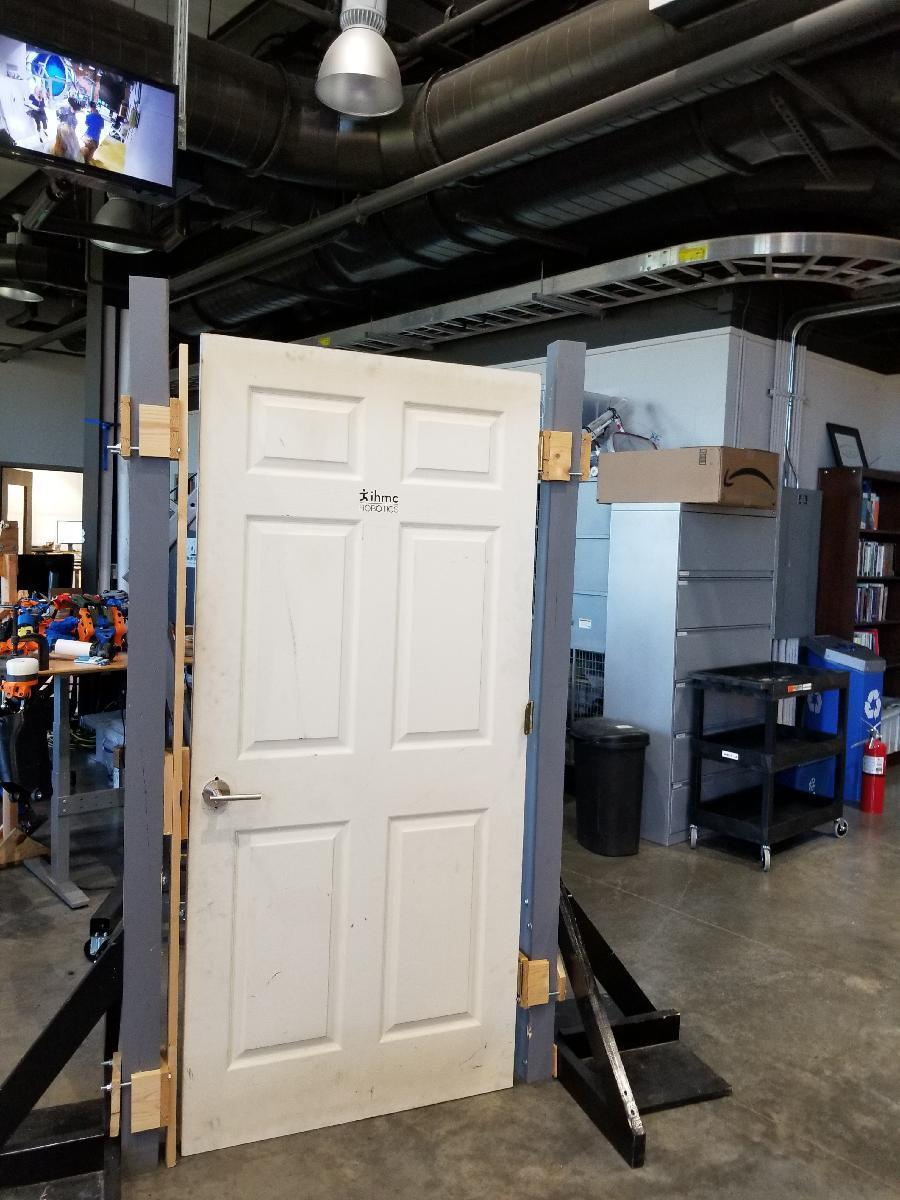door: (196, 328, 521, 1137)
handle: (206, 778, 268, 813)
